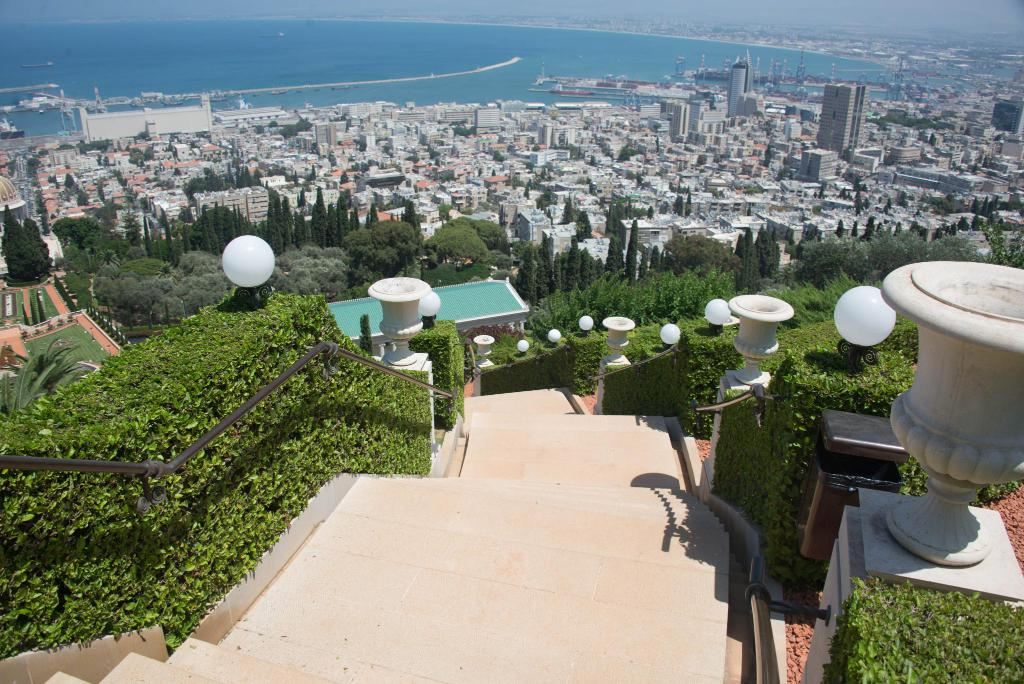Tree: (78, 248, 351, 332), (535, 262, 747, 339), (137, 182, 351, 257), (332, 208, 510, 289), (0, 322, 103, 435), (515, 215, 648, 299), (789, 233, 991, 273), (726, 215, 780, 290), (2, 199, 46, 285), (55, 215, 101, 251), (23, 212, 52, 266)
